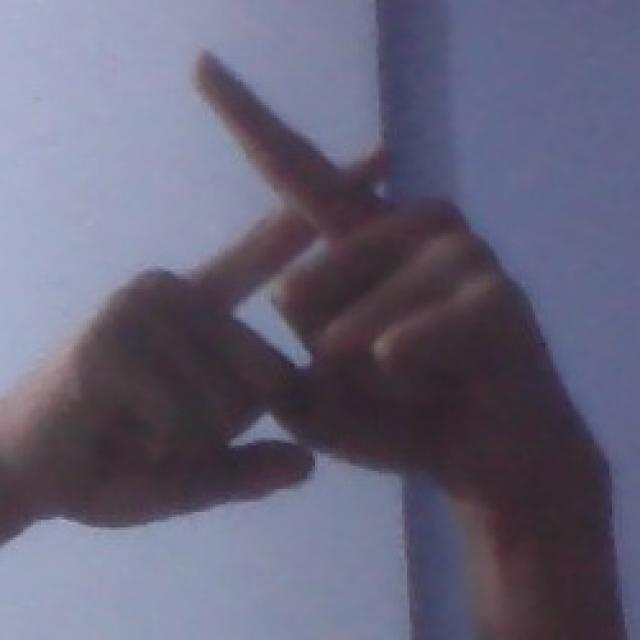Alphabet-X: (0, 38, 581, 571)
